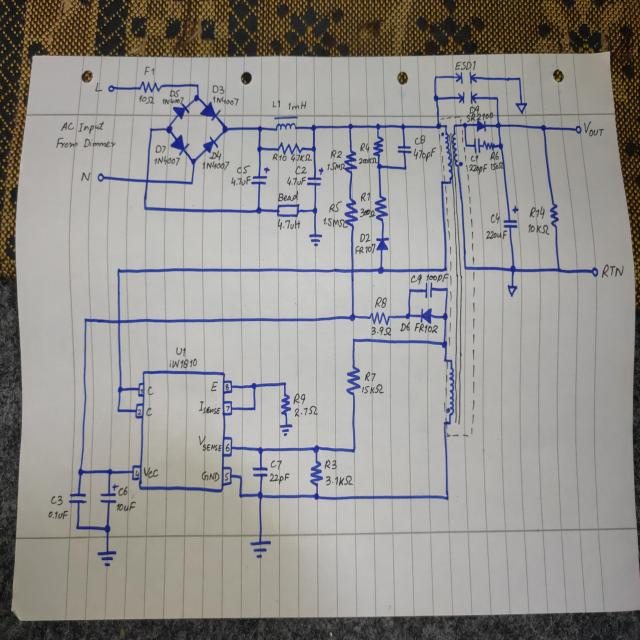capacitor: (100, 482, 119, 504), (251, 166, 270, 187), (503, 204, 519, 228), (306, 167, 324, 187), (68, 491, 88, 505), (252, 464, 268, 480), (396, 143, 412, 155), (424, 282, 433, 298), (473, 136, 481, 154)
crossover: (143, 176, 150, 186), (349, 266, 356, 276), (116, 317, 122, 327)
diode: (169, 134, 190, 156), (199, 101, 221, 121), (172, 102, 190, 120), (202, 135, 218, 154), (375, 237, 390, 252), (420, 306, 432, 324), (476, 119, 486, 133)
ground: (249, 538, 273, 560), (96, 549, 118, 568), (308, 232, 323, 248), (279, 422, 293, 437), (514, 102, 528, 115), (507, 284, 518, 298)
inductor: (447, 366, 463, 416), (444, 131, 454, 179), (274, 116, 298, 132), (276, 203, 300, 218), (452, 131, 459, 168)
junction: (103, 523, 111, 534), (256, 490, 264, 501), (165, 124, 173, 135), (509, 264, 517, 274), (348, 312, 356, 322), (346, 121, 354, 131), (443, 493, 451, 503), (190, 157, 198, 167), (312, 444, 320, 454), (377, 266, 385, 275), (77, 467, 84, 477), (257, 445, 264, 455), (256, 123, 263, 133), (256, 144, 263, 154), (115, 266, 122, 276), (116, 385, 123, 394), (540, 123, 547, 132), (82, 316, 89, 325), (441, 339, 448, 348), (433, 94, 440, 103), (193, 93, 200, 102), (313, 492, 320, 501), (442, 312, 448, 322), (222, 124, 228, 134), (74, 524, 81, 532), (310, 124, 317, 132), (350, 336, 357, 344), (107, 467, 113, 476), (312, 206, 318, 215), (251, 382, 257, 391), (351, 446, 357, 455), (400, 122, 406, 131), (148, 125, 154, 134), (495, 122, 502, 129), (255, 207, 262, 214), (376, 163, 383, 170), (436, 122, 442, 130), (238, 491, 244, 499), (494, 95, 500, 103), (404, 312, 410, 320), (282, 380, 288, 388), (194, 82, 200, 90), (189, 179, 195, 187), (142, 204, 148, 212), (310, 145, 316, 153), (556, 266, 562, 274), (238, 474, 244, 481), (498, 142, 503, 150), (116, 407, 121, 414), (252, 405, 257, 412), (407, 287, 412, 294), (444, 286, 449, 293), (433, 74, 438, 80), (517, 76, 522, 82), (462, 122, 467, 128), (463, 265, 468, 271), (444, 266, 448, 273), (443, 124, 448, 129), (439, 180, 444, 185), (452, 123, 457, 128), (403, 165, 407, 171), (443, 357, 447, 363), (449, 358, 453, 364), (448, 420, 452, 426), (448, 180, 452, 185), (443, 421, 446, 426), (465, 143, 468, 148)
resistor: (346, 365, 361, 397), (344, 196, 358, 228), (309, 460, 324, 487), (374, 194, 388, 222), (343, 149, 358, 174), (278, 141, 304, 155), (139, 80, 163, 94), (369, 310, 390, 326), (549, 202, 559, 228), (280, 393, 291, 416), (372, 135, 383, 157), (482, 139, 496, 151)
terminal: (590, 266, 598, 277), (107, 84, 115, 93), (97, 172, 104, 182), (575, 125, 582, 134)
text: (56, 136, 116, 148), (60, 120, 105, 135), (198, 434, 222, 452), (601, 263, 624, 279), (413, 147, 437, 162), (584, 120, 604, 138), (198, 400, 220, 416), (325, 474, 354, 486), (169, 358, 198, 370), (294, 404, 318, 418), (203, 159, 230, 171), (277, 217, 300, 231), (212, 95, 238, 107), (466, 111, 493, 122), (414, 322, 438, 334), (528, 222, 550, 235), (154, 155, 180, 166), (354, 242, 376, 255), (323, 217, 348, 228), (48, 508, 69, 521), (269, 472, 290, 485), (455, 60, 477, 72), (362, 383, 384, 395), (231, 174, 251, 187), (426, 272, 449, 283), (278, 190, 299, 202), (116, 500, 136, 512), (529, 206, 546, 220), (201, 470, 220, 482), (288, 99, 307, 111), (287, 176, 306, 188), (469, 163, 488, 175), (486, 230, 508, 240), (162, 96, 184, 106), (290, 153, 312, 163), (325, 160, 343, 172), (371, 326, 392, 336), (358, 155, 376, 166), (292, 392, 306, 406), (143, 466, 159, 478), (359, 207, 376, 218), (139, 94, 155, 105), (329, 200, 342, 213), (374, 296, 387, 309), (50, 494, 64, 506), (410, 274, 423, 286), (208, 150, 222, 161), (236, 164, 251, 174), (272, 152, 287, 162), (364, 370, 376, 382), (414, 134, 426, 146), (270, 459, 283, 470), (80, 170, 91, 183), (324, 459, 337, 470), (93, 80, 103, 94), (294, 165, 308, 175), (399, 321, 411, 332), (212, 84, 224, 95), (360, 191, 371, 203), (490, 212, 500, 225), (490, 161, 504, 170), (330, 149, 342, 159), (118, 484, 128, 496), (143, 66, 155, 76), (359, 233, 371, 243), (210, 380, 219, 393), (360, 142, 370, 153), (155, 144, 166, 154), (469, 104, 479, 115), (176, 346, 186, 357), (169, 89, 180, 98), (490, 150, 499, 161), (272, 99, 281, 109), (147, 385, 154, 396), (470, 154, 478, 163), (146, 406, 152, 416), (224, 471, 230, 481), (134, 469, 140, 478), (225, 442, 230, 452), (137, 408, 142, 415), (226, 404, 230, 412), (225, 384, 229, 391), (140, 388, 143, 394)
